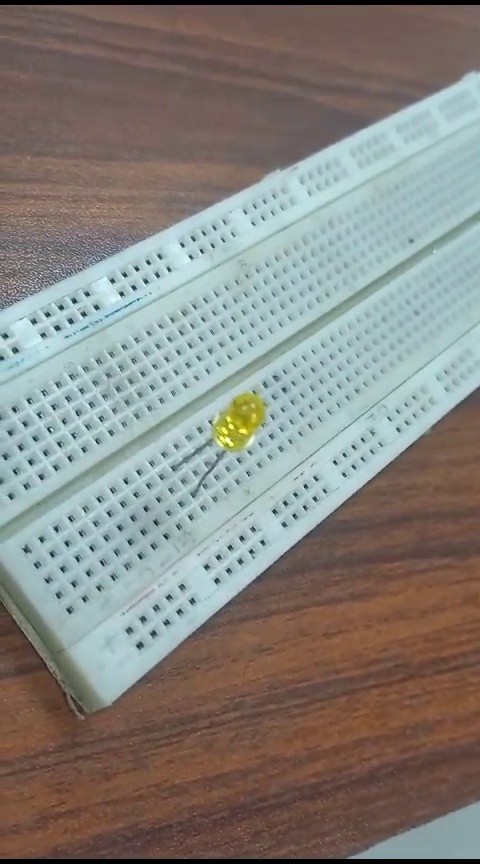LED: (179, 385, 288, 504)
